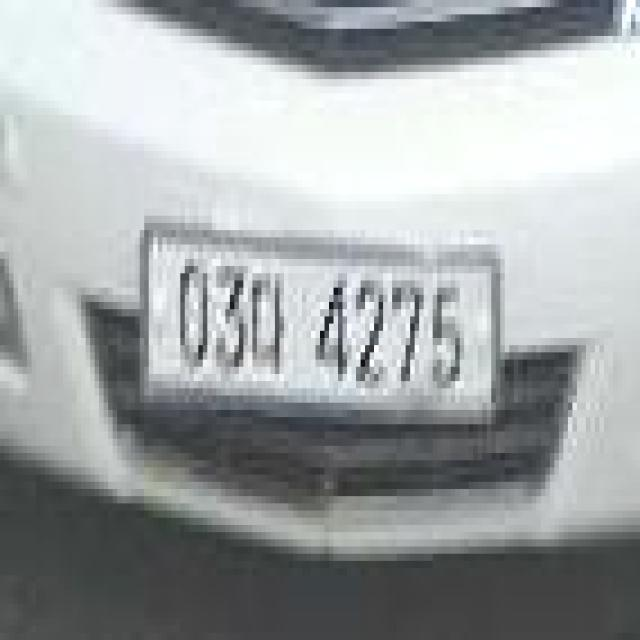illegal_plate: (139, 212, 506, 432)
